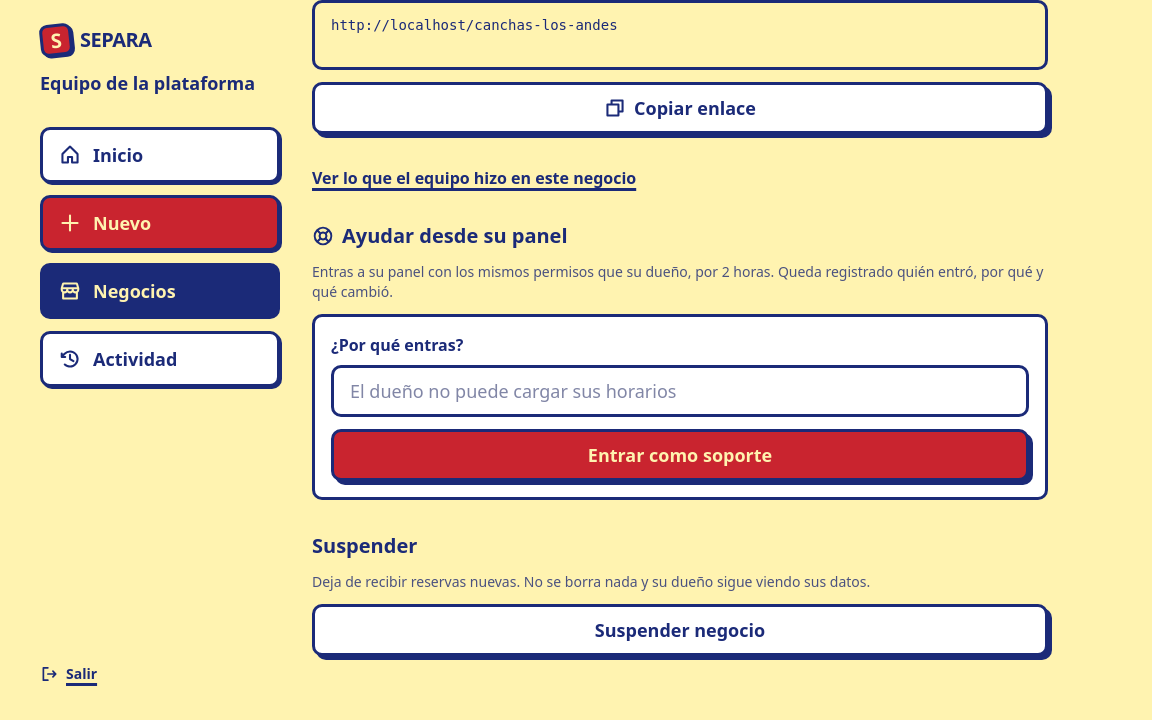
Test: entering as support › asks why before going in, and does not open a session without a reason
This screenshot has width=1152, height=720.
(page scrolled)
Click the button "Entrar como soporte": (680, 455) [331, 429, 1029, 481]
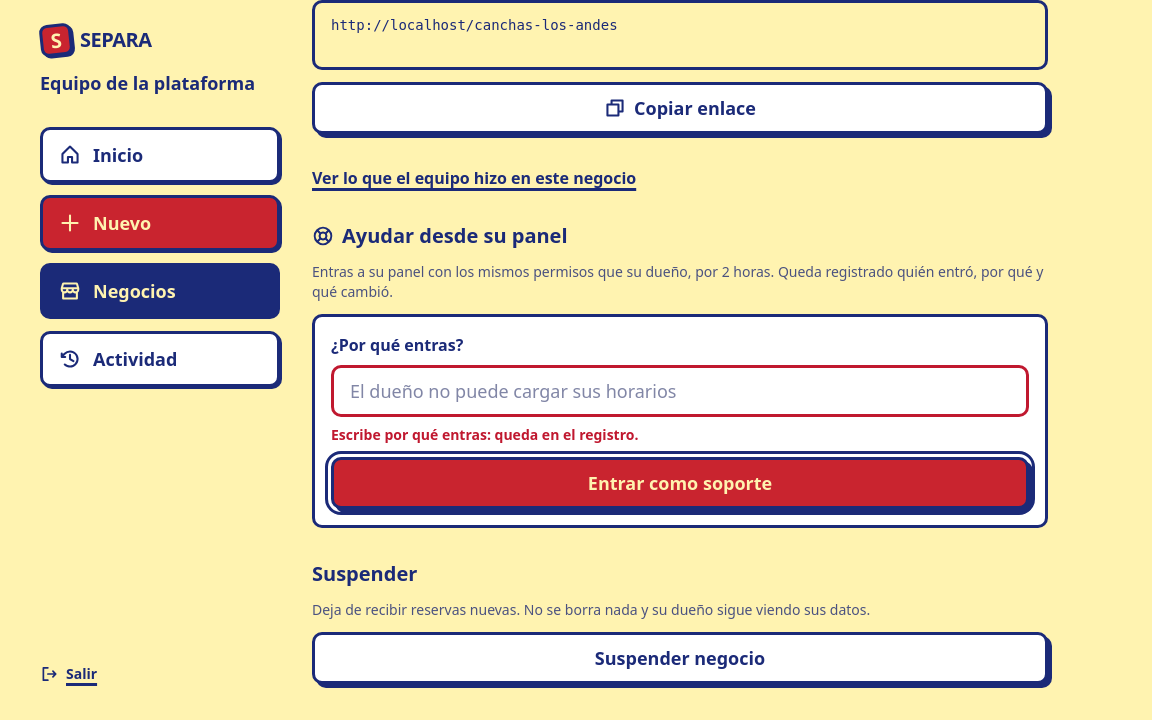
Expected: the text "Escribe por qué entras: queda en el registro." is shown, [331, 425, 638, 444]
